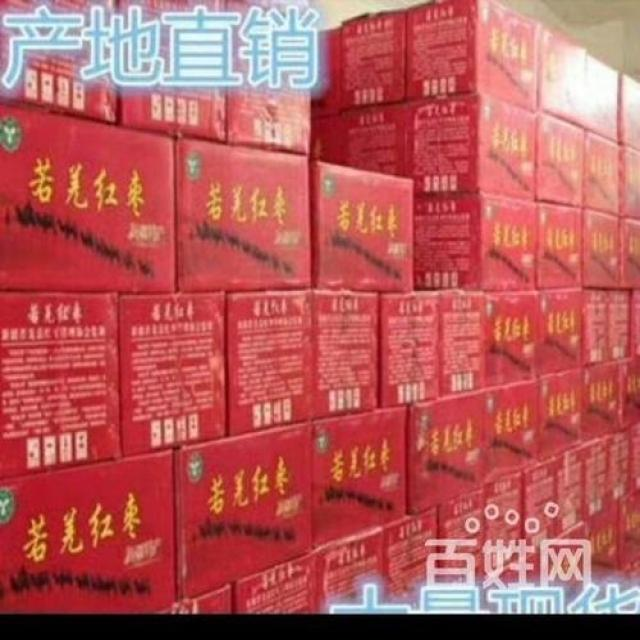box: (0, 101, 177, 294), (0, 446, 177, 614), (175, 420, 314, 599), (0, 292, 122, 481), (174, 136, 312, 292), (119, 292, 227, 456), (118, 0, 227, 141), (406, 0, 543, 111), (0, 0, 118, 124), (404, 91, 536, 200), (312, 404, 408, 549), (310, 161, 415, 292), (228, 286, 314, 437), (228, 0, 312, 154), (415, 192, 538, 290), (408, 388, 486, 514), (311, 292, 379, 419), (379, 288, 440, 408), (381, 506, 439, 615), (315, 524, 385, 614), (342, 11, 406, 109), (486, 378, 538, 483), (436, 486, 485, 597), (233, 552, 319, 614), (485, 290, 538, 390), (539, 25, 589, 128), (439, 292, 485, 399), (343, 101, 406, 176), (536, 111, 585, 207), (538, 366, 582, 464), (486, 467, 524, 577), (538, 201, 584, 290), (538, 288, 582, 377), (522, 456, 557, 557), (582, 208, 621, 290), (586, 55, 621, 142), (586, 129, 620, 215), (584, 358, 618, 444), (311, 28, 340, 119), (556, 444, 584, 536), (154, 585, 234, 615), (585, 437, 611, 520), (582, 287, 609, 366), (617, 486, 640, 575), (310, 111, 344, 166), (618, 353, 640, 432), (618, 74, 640, 149), (609, 429, 630, 507), (608, 290, 630, 358), (620, 215, 640, 288), (621, 145, 640, 220), (628, 420, 640, 491), (631, 288, 640, 356)
